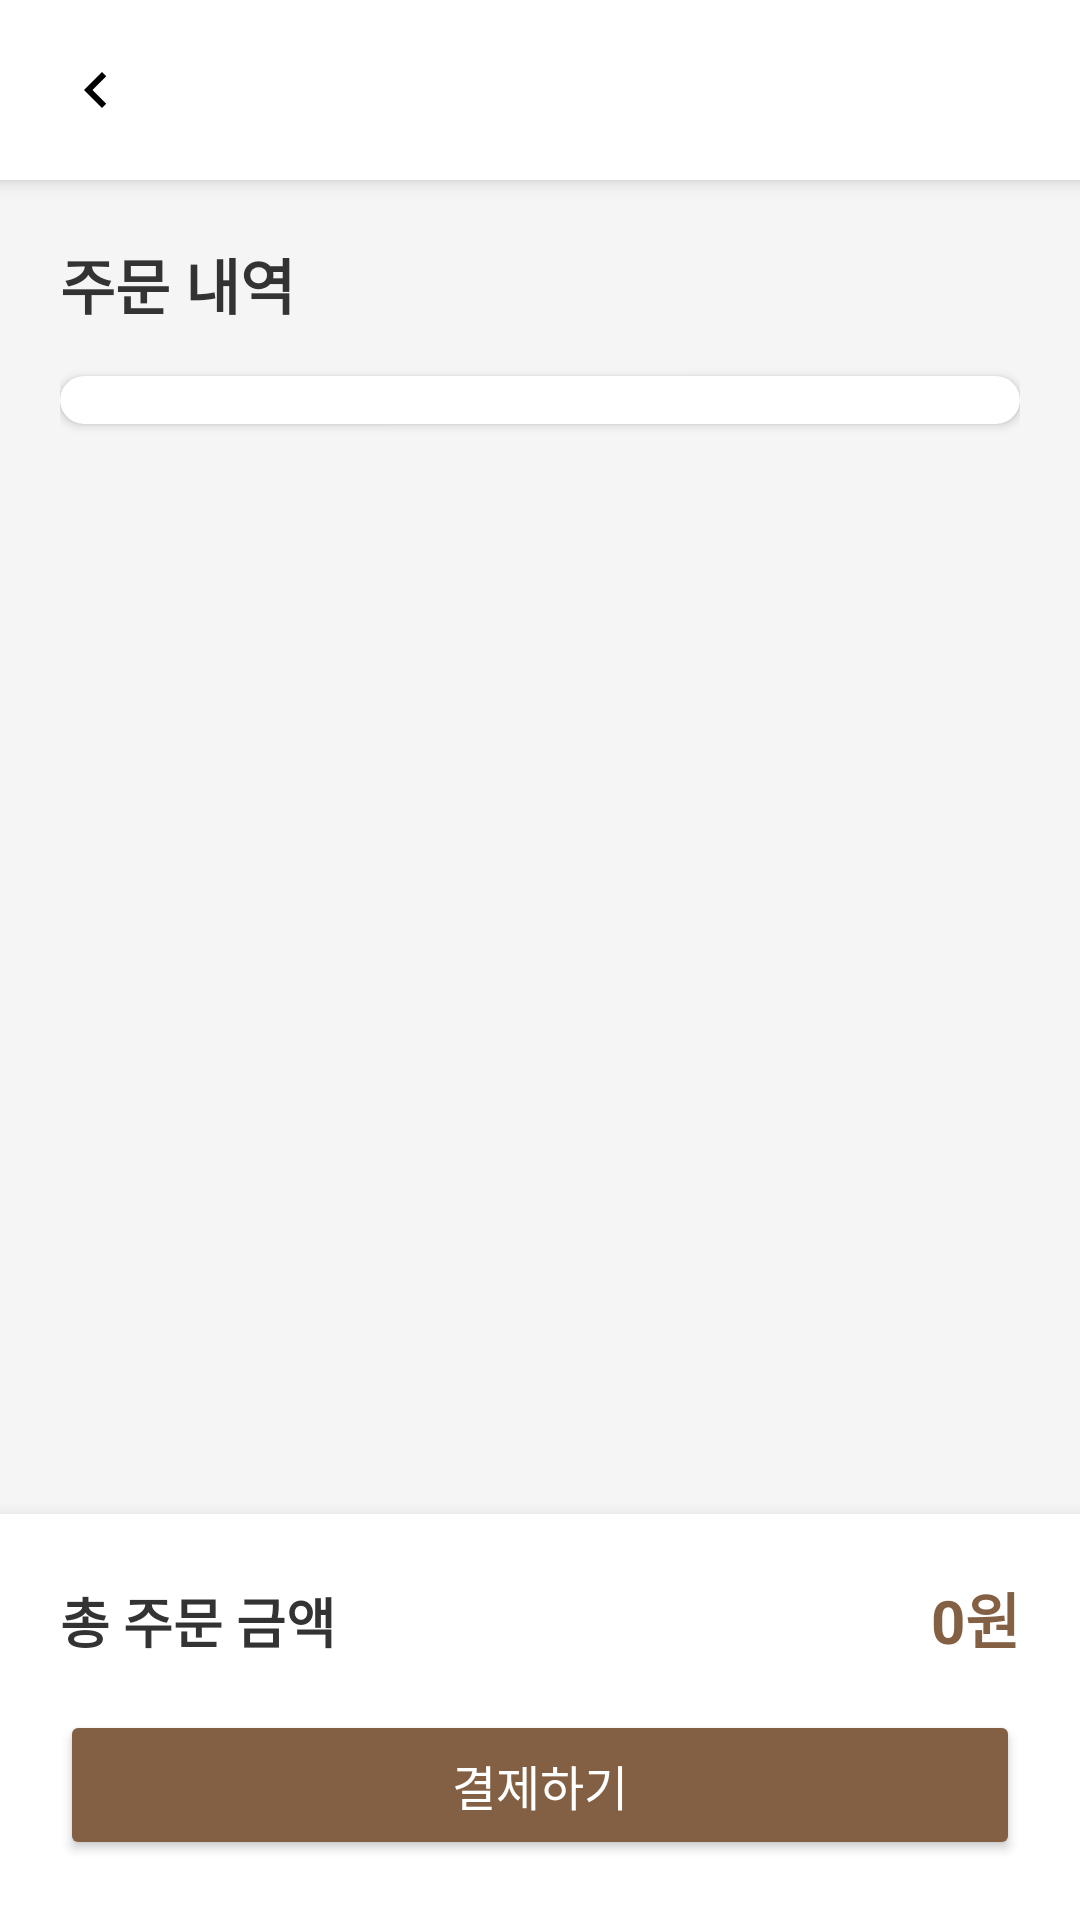

Named icons in this screenshot (1080 × 1920) and their bounding boxes, bbox=[x1, y1, x2, y2]:
back: bbox=[84, 72, 106, 108]
